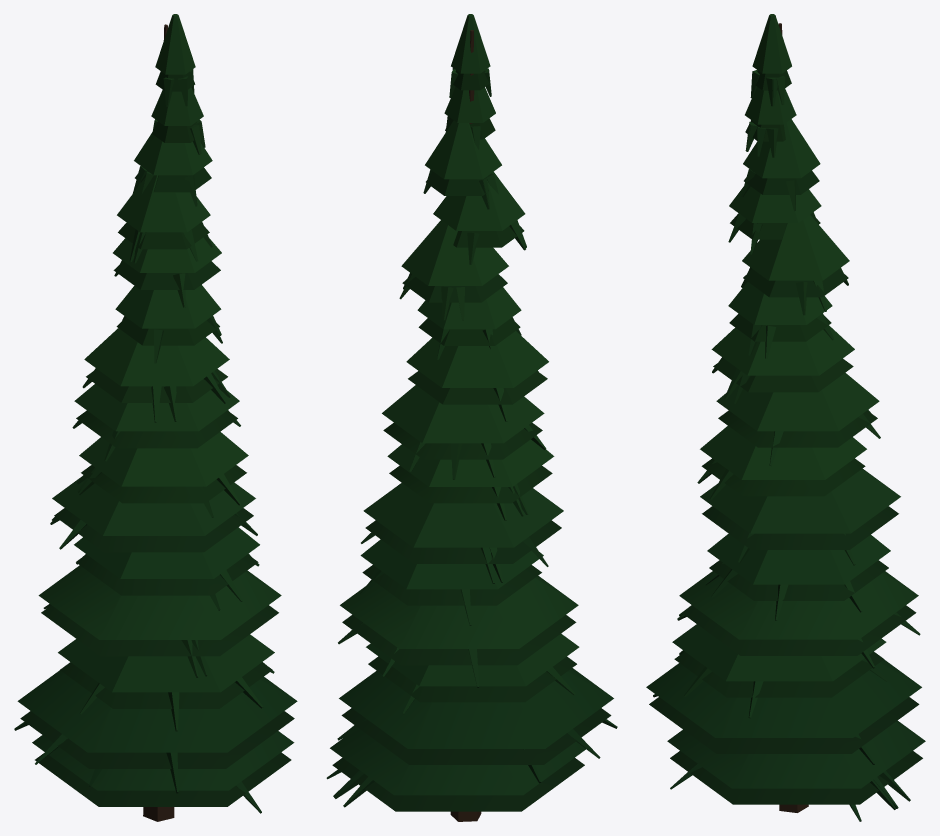
The model's file is tree_spruce_3_mid.glb.
The picture shows the model from 3 angles, left to right: view 1: azimuth 30°, elevation 25°; view 2: azimuth 150°, elevation 25°; view 3: azimuth 270°, elevation 25°; orthographic projection.
Parts seen in each view (by area): view 1: leaf; view 2: leaf; view 3: leaf.
Boxes of the visible parts, x1,y1,x2,y2 form: leaf: [14, 14, 297, 813]; leaf: [326, 14, 617, 811]; leaf: [646, 14, 925, 821].
Size of the model in its own units: 4.32 by 13.96 by 4.46.
